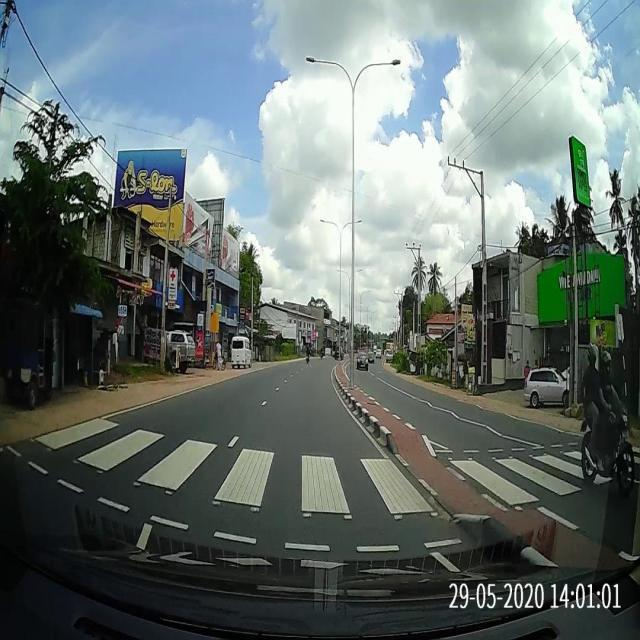Crosswalk: (2, 412, 624, 561)
